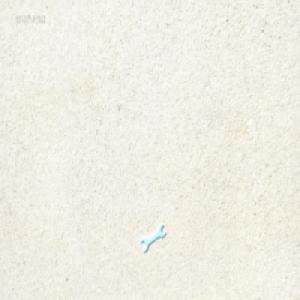Wrench: (141, 224, 165, 253)
